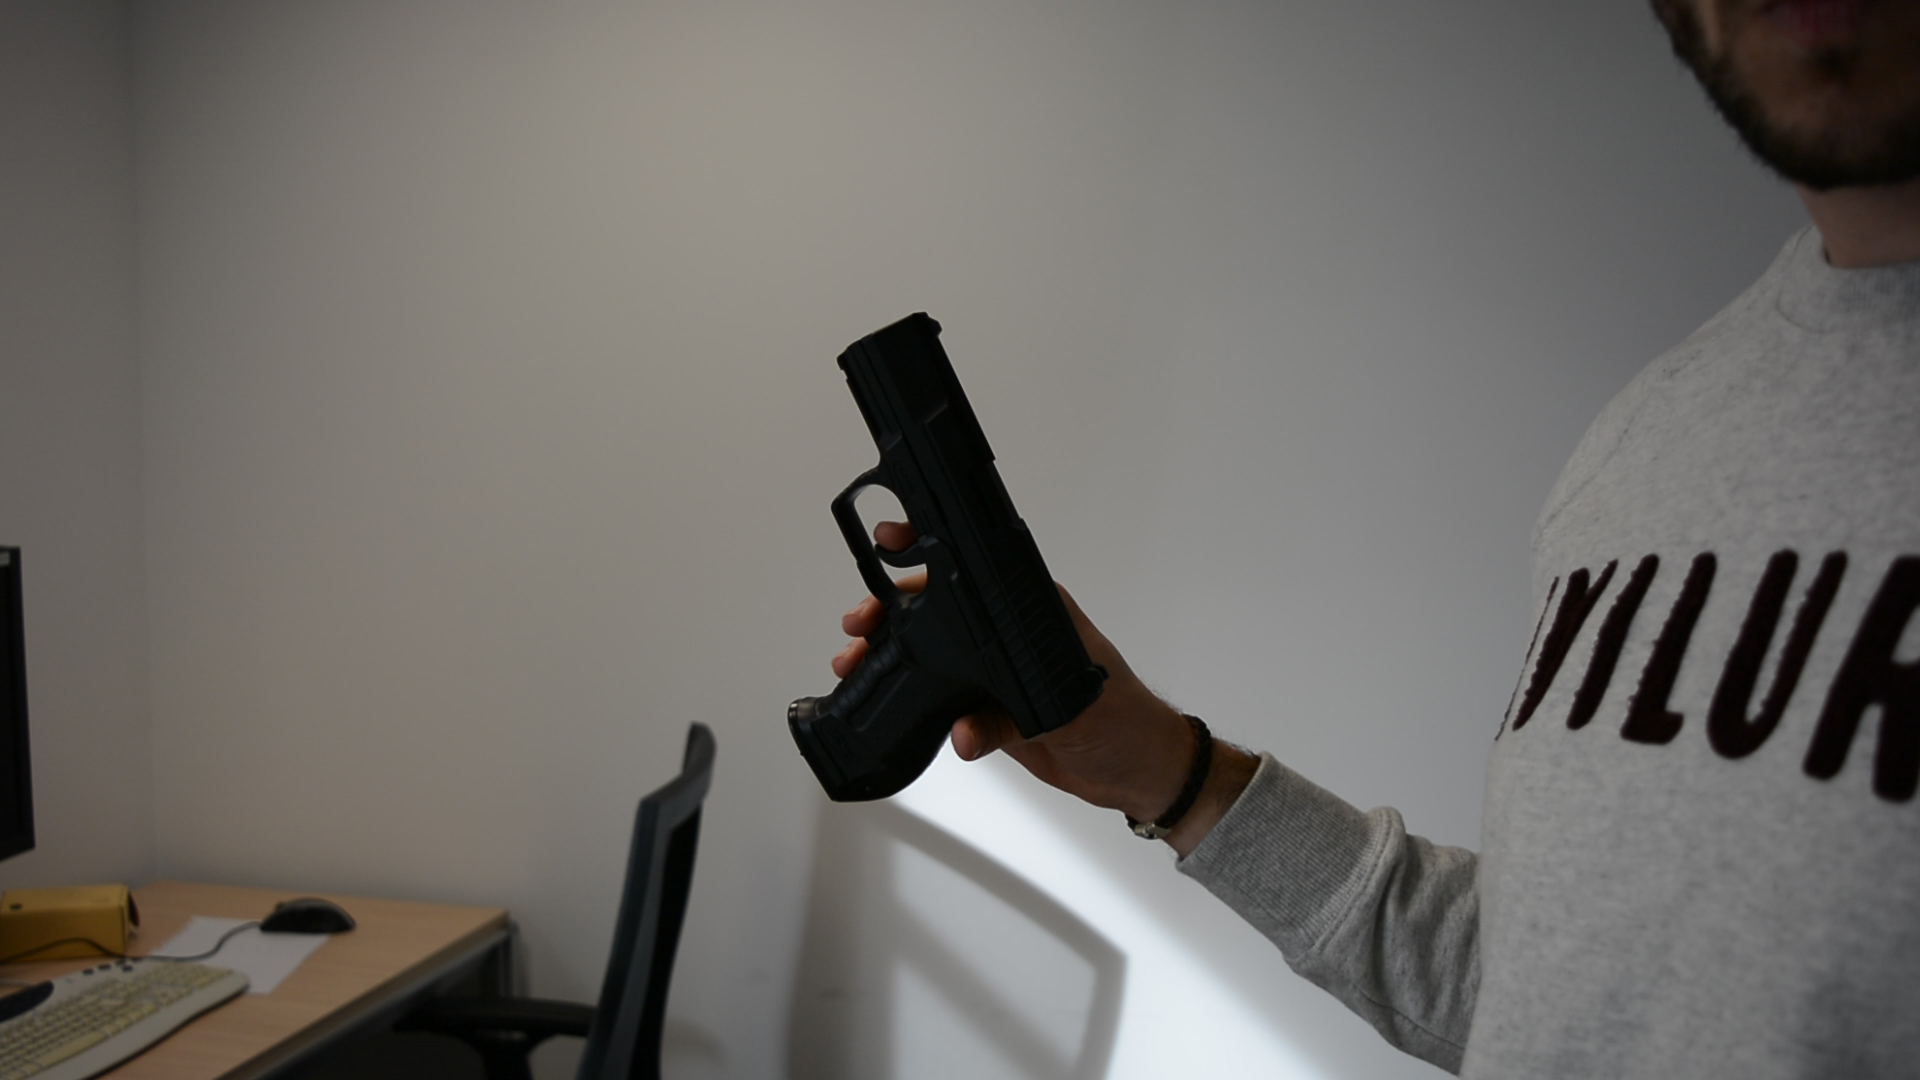pistol: (785, 309, 1114, 806)
